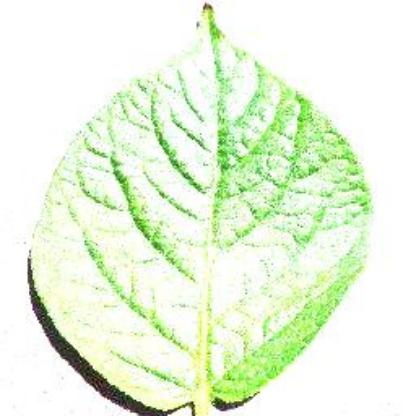Healthy-plant: (12, 6, 378, 416)
